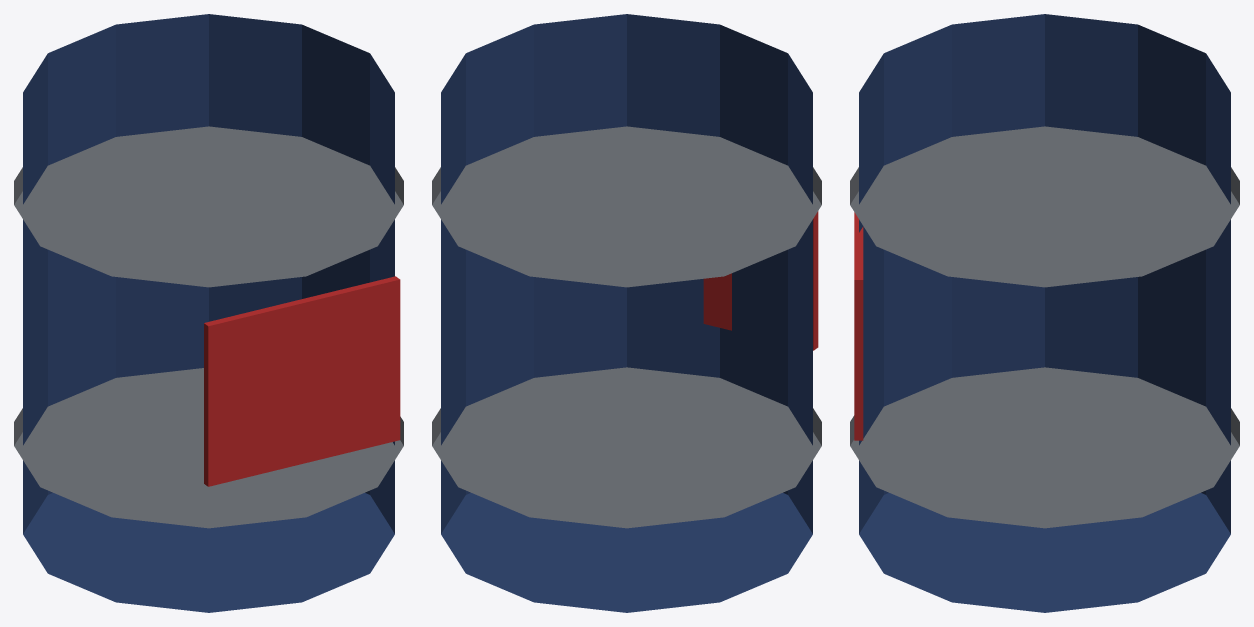
File: drum.glb
3 renders of one model, left to right at view 1: azimuth 30°, elevation 25°; view 2: azimuth 150°, elevation 25°; view 3: azimuth 270°, elevation 25°, orthographic.
Parts seen in each view (by area): view 1: drum; view 2: drum; view 3: drum.
Boxes of the visible parts, left/top/right/bottom form: drum: left=14, top=14, right=403, bottom=612; drum: left=432, top=14, right=821, bottom=612; drum: left=850, top=14, right=1239, bottom=612.
Size of the model in its own units: 0.88 by 1.1 by 0.88.
